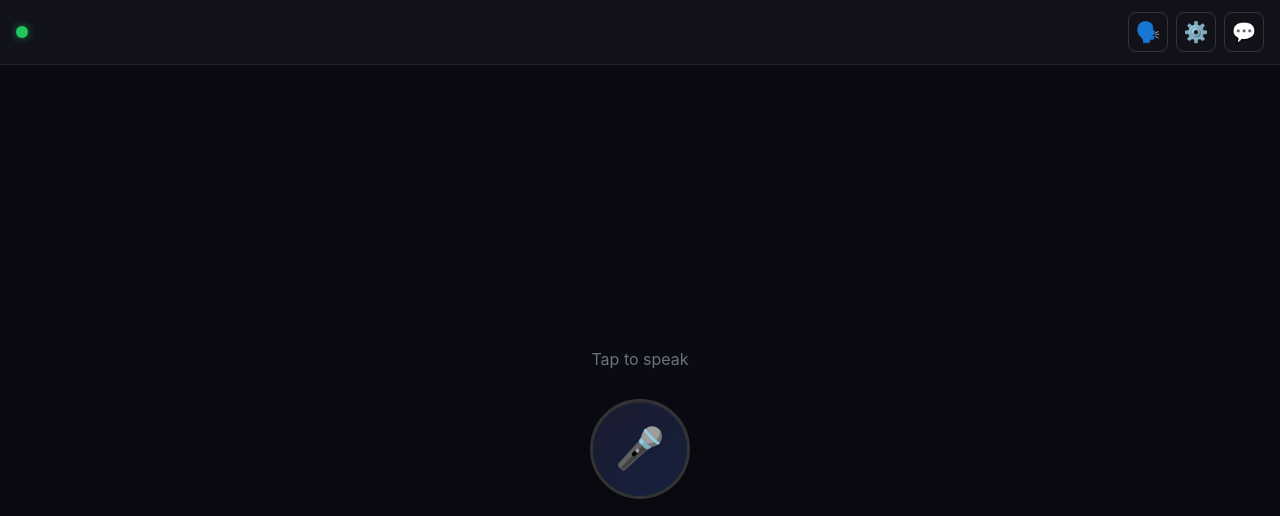
Scenario: MobileMode › error handling › displays STT error when present
Click the button named "start listening": (640, 448) x1=590 y1=398 x2=690 y2=498
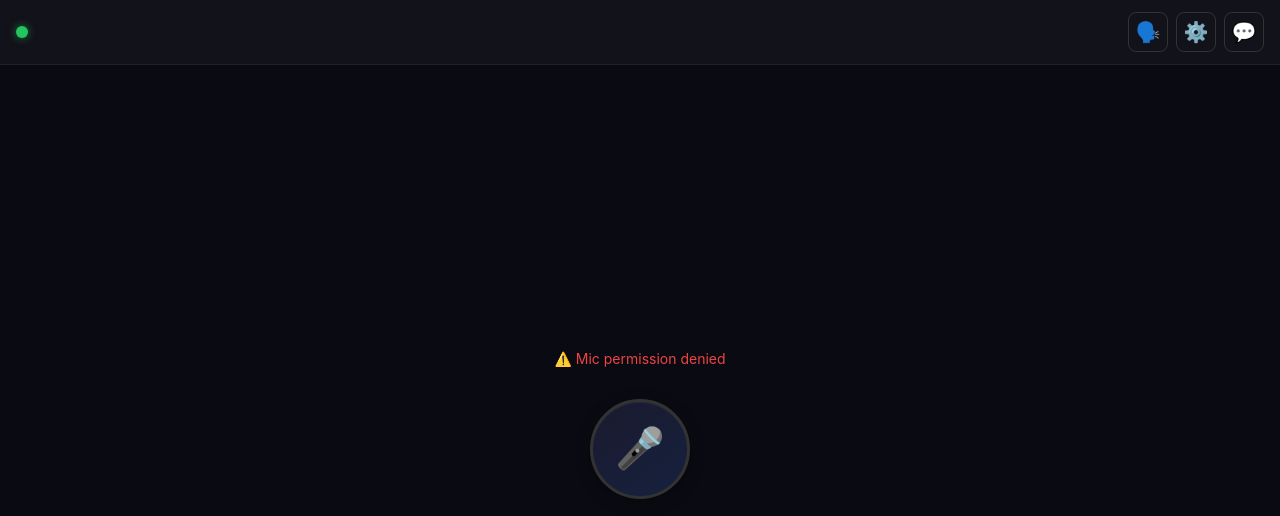
expect the text "⚠️ Mic permission denied" is shown: met, box x1=554 y1=350 x2=726 y2=367
